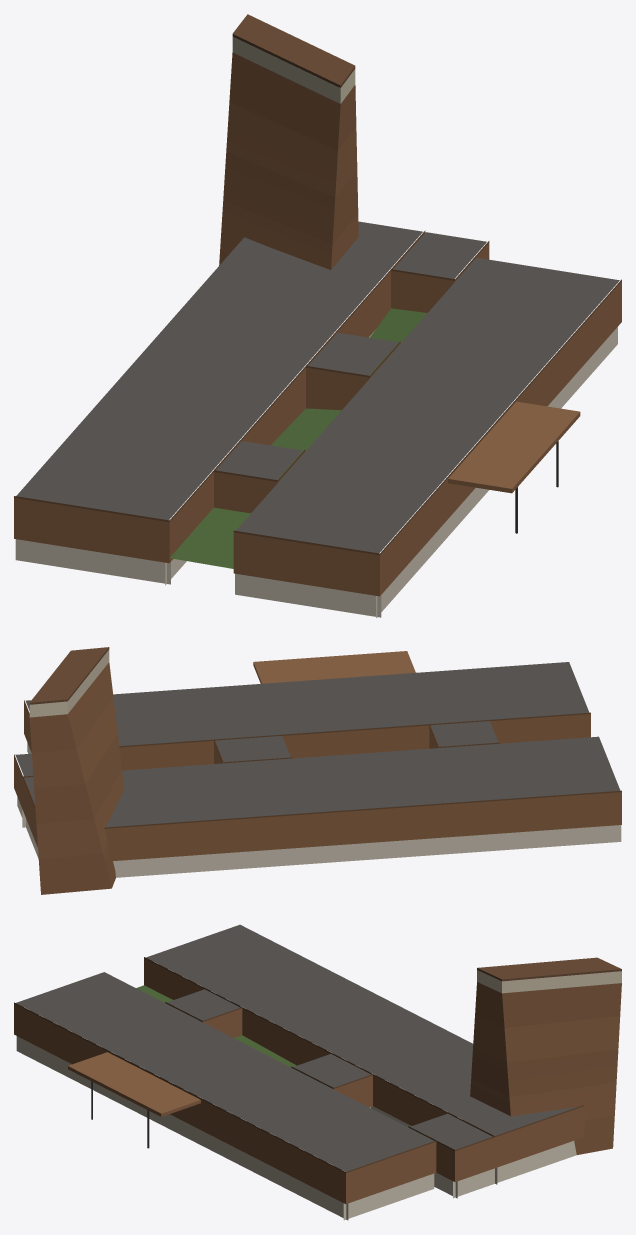
File: deYoung_lod1.glb
The picture shows the model from 3 angles, top to bottom: view 1: azimuth 30°, elevation 25°; view 2: azimuth 150°, elevation 25°; view 3: azimuth 270°, elevation 25°; orthographic projection. The views are drawn at different scales.
Parts seen in each view (by area): view 1: L1_roof, L1_copper, L1_metal, L1_shop, L1_grass, L1_win; view 2: L1_roof, L1_copper, L1_shop, L1_metal, L1_win; view 3: L1_roof, L1_copper, L1_shop, L1_metal, L1_win, L1_grass.
Boxes of the visible parts, bbox=[...] form: L1_roof: bbox=[16, 221, 619, 553]; L1_copper: bbox=[14, 52, 621, 596]; L1_metal: bbox=[14, 14, 621, 555]; L1_shop: bbox=[15, 327, 617, 617]; L1_grass: bbox=[170, 308, 427, 568]; L1_win: bbox=[232, 37, 355, 103]; L1_roof: bbox=[15, 662, 620, 827]; L1_copper: bbox=[14, 662, 621, 894]; L1_shop: bbox=[17, 743, 621, 877]; L1_metal: bbox=[14, 647, 621, 828]; L1_win: bbox=[29, 649, 109, 717]; L1_roof: bbox=[16, 924, 579, 1171]; L1_copper: bbox=[14, 958, 621, 1203]; L1_shop: bbox=[16, 1036, 576, 1220]; L1_metal: bbox=[14, 957, 621, 1173]; L1_win: bbox=[477, 970, 621, 993]; L1_grass: bbox=[136, 985, 424, 1134].
Size of the model in its own units: 160 by 54.89 by 166.
